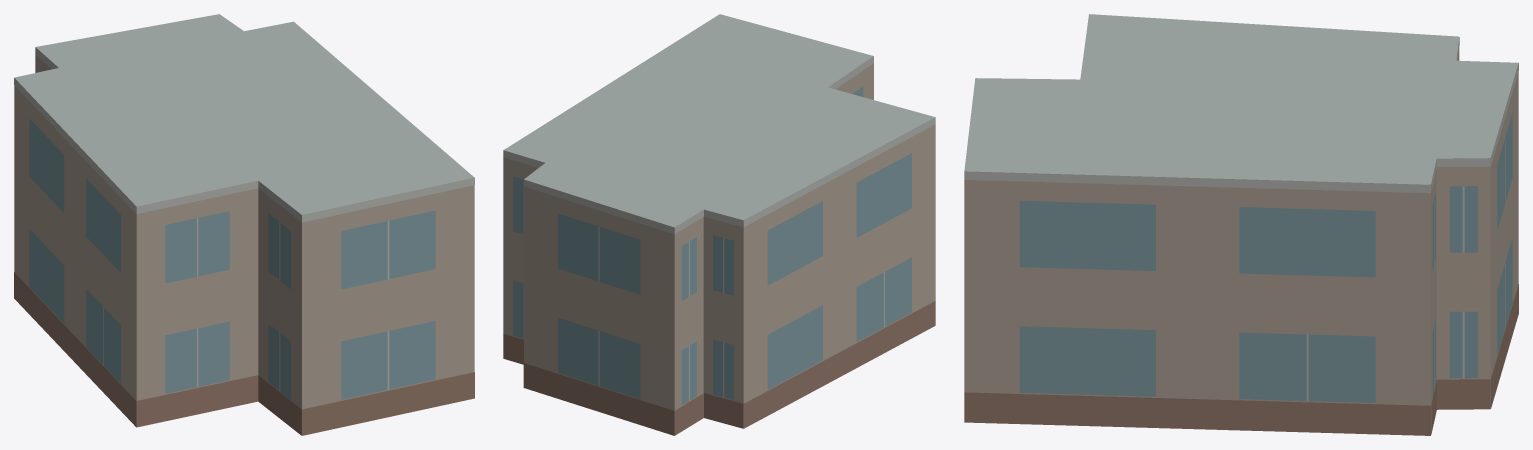
File: survey-upis-32763930.glb
3 views of the same model, side by side, from view 1: azimuth 30°, elevation 25°; view 2: azimuth 150°, elevation 25°; view 3: azimuth 270°, elevation 25° (orthographic). The views are drawn at different scales.
Parts seen in each view (by area): view 1: survey-upis-32763930.tmp; view 2: survey-upis-32763930.tmp; view 3: survey-upis-32763930.tmp.
Boxes of the visible parts, x1,y1,x2,y2 form: survey-upis-32763930.tmp: (14,14,474,435); survey-upis-32763930.tmp: (503,14,935,435); survey-upis-32763930.tmp: (964,14,1518,435).
Bounding box in the file's own units: 10.51 × 7.2 × 14.42.
